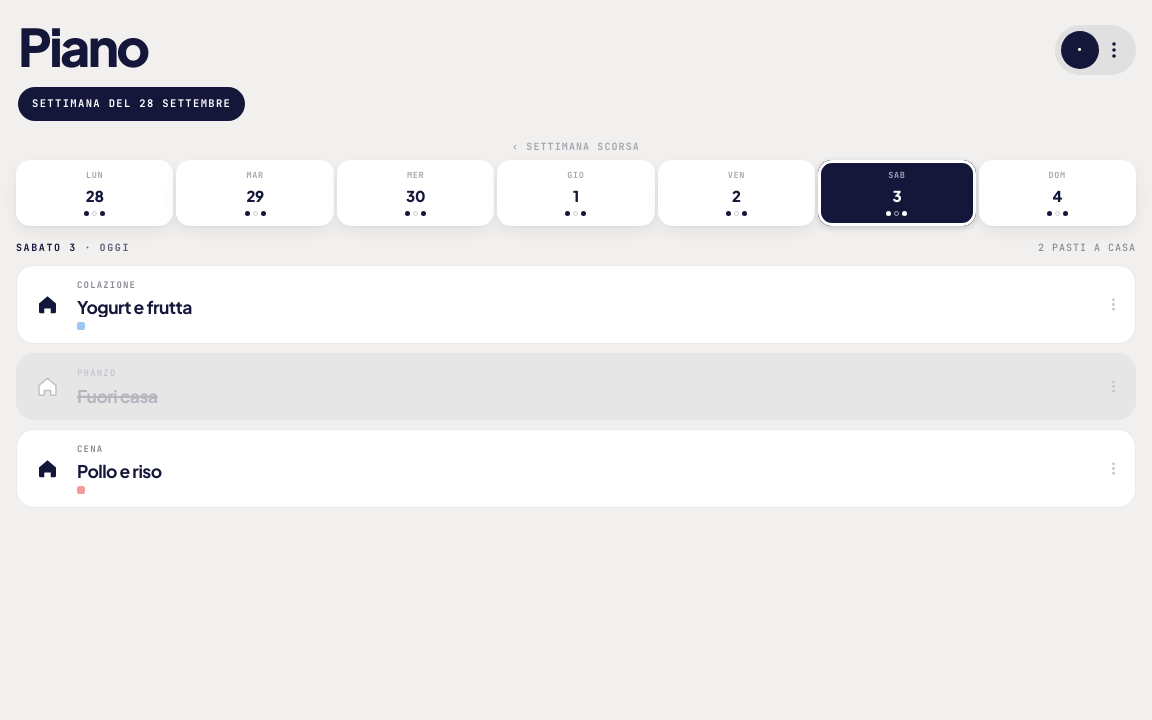
Test case: spunta pasti › a settimana confermata il foglio si apre anche sui giorni futuri, senza spunte
Expected: the text "Yogurt e frutta" is shown, left=77, top=297, right=192, bottom=317
Click the button "DOM 4" at (1057, 193), box left=978, top=160, right=1136, bottom=226
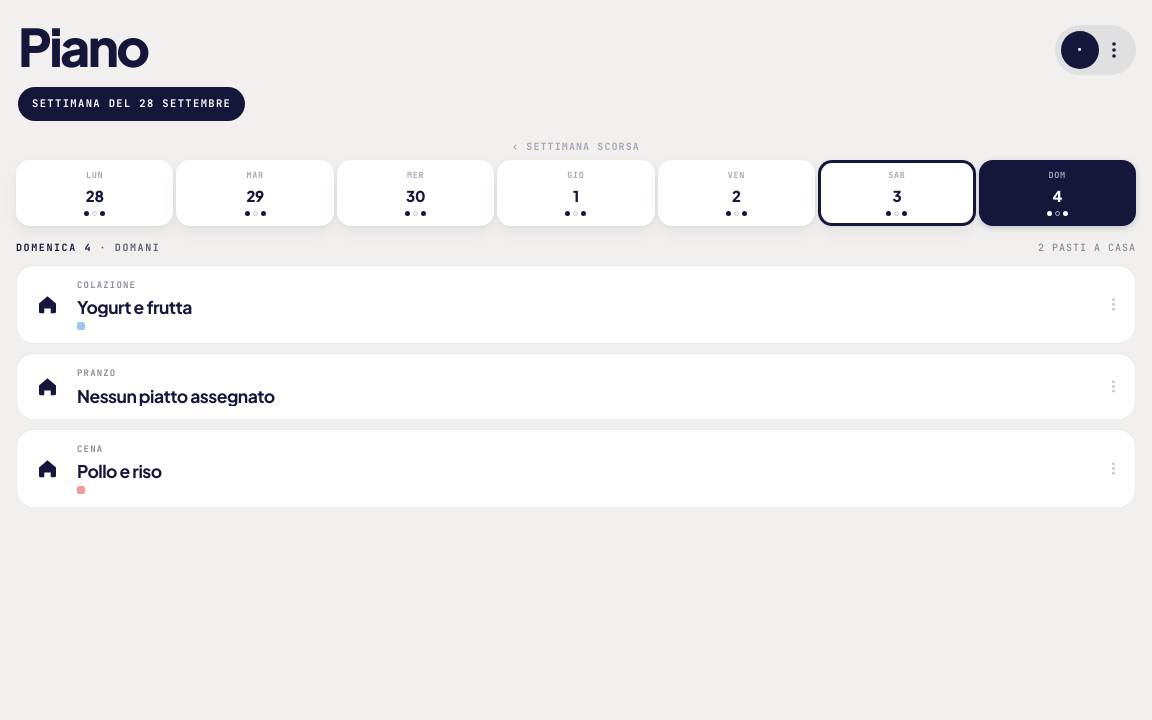
Click the button named "Azioni per Cena" at (1113, 469), box left=1091, top=430, right=1135, bottom=507
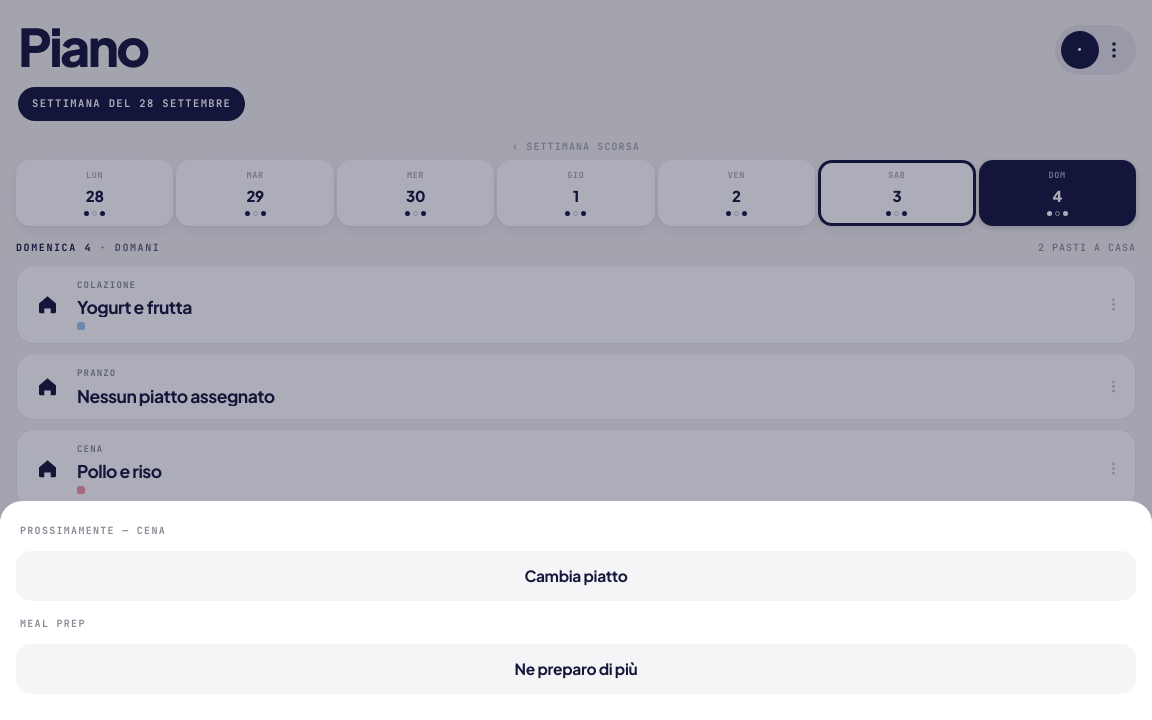
Result: the link "Cambia piatto" is shown at left=16, top=551, right=1136, bottom=601
Result: the button "Ne preparo di più" is shown at left=16, top=644, right=1136, bottom=694
